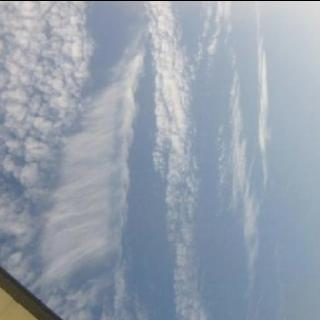Cirrus: (0, 0, 269, 305)
